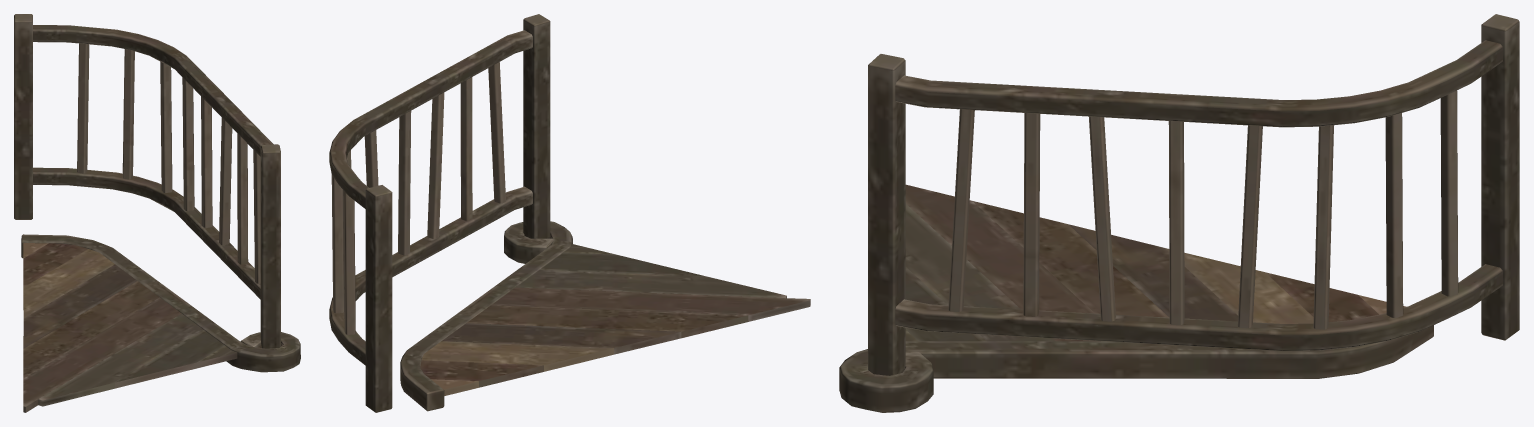
File: stairs.triangle.spiral.landing.frontier.glb
The picture shows the model from 3 angles, left to right: view 1: azimuth 30°, elevation 25°; view 2: azimuth 150°, elevation 25°; view 3: azimuth 270°, elevation 25°; orthographic projection. The views are drawn at different scales.
Visible parts, largest first — view 1: stairs.triangle.spiral.landing_LOD0; view 2: stairs.triangle.spiral.landing_LOD0; view 3: stairs.triangle.spiral.landing_LOD0.
Part boxes in pixels (x1=…): stairs.triangle.spiral.landing_LOD0: x1=14, y1=14, x2=300, y2=412; stairs.triangle.spiral.landing_LOD0: x1=329, y1=14, x2=810, y2=412; stairs.triangle.spiral.landing_LOD0: x1=839, y1=14, x2=1519, y2=412.
Size of the model in its own units: 1.78 by 1.24 by 2.29.
1 material, 1 textured.
